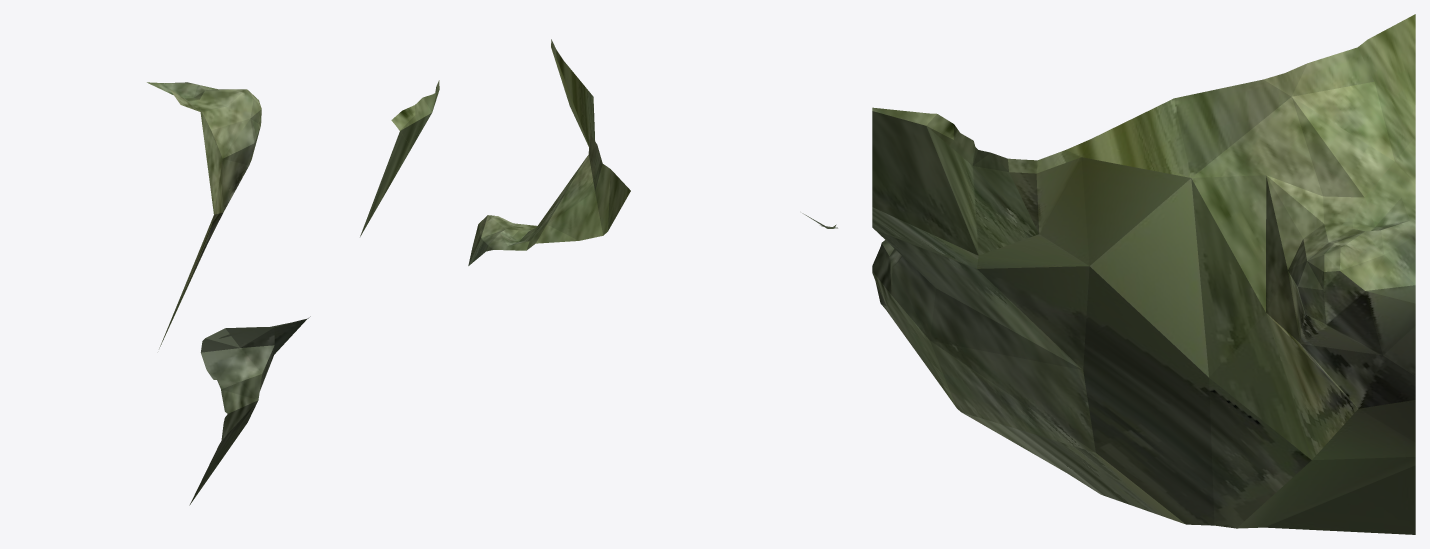
3 renders of one model, left to right at view 1: azimuth 30°, elevation 25°; view 2: azimuth 150°, elevation 25°; view 3: azimuth 270°, elevation 25°, orthographic. The views are drawn at different scales.
Size of the model in its own units: 2.03 by 2.95 by 2.95.
Materials: 4 (4 with a texture image).
